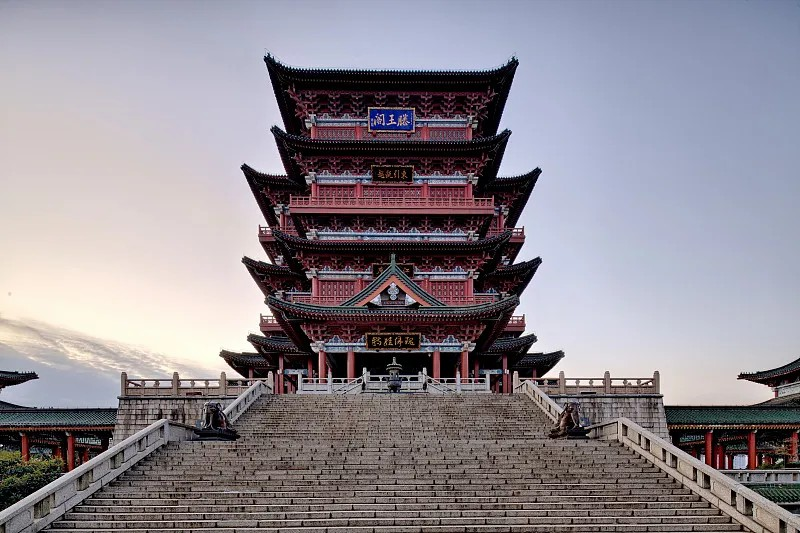Teng: (221, 54, 564, 384)
